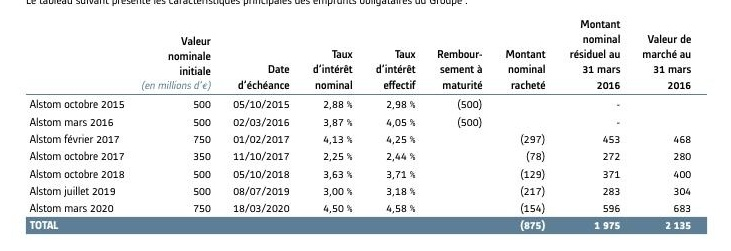table: (0, 0, 731, 251)
